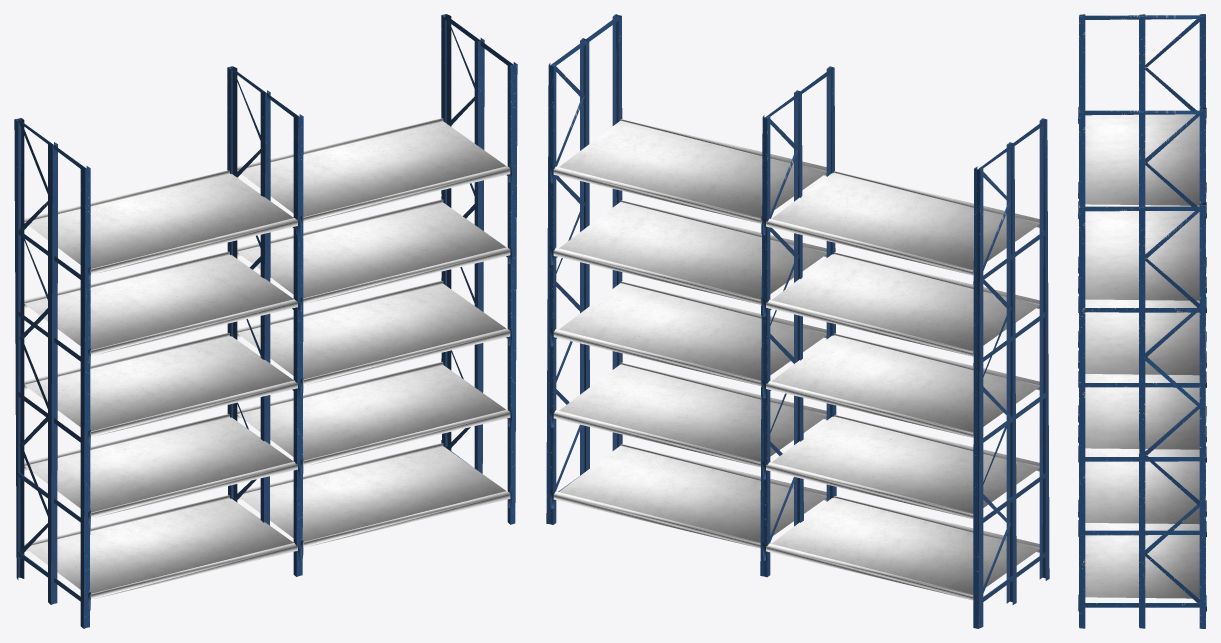
Rendered from stelaj2.glb.
3 renders of one model, left to right at view 1: azimuth 30°, elevation 25°; view 2: azimuth 150°, elevation 25°; view 3: azimuth 270°, elevation 25°, orthographic. The views are drawn at different scales.
Visible parts, largest first — view 1: mezanine racking.003; view 2: mezanine racking.003; view 3: mezanine racking.003.
Part boxes in pixels (x1,y1,x2,y2): mezanine racking.003: (14, 14, 517, 628); mezanine racking.003: (546, 14, 1049, 628); mezanine racking.003: (1078, 14, 1206, 628).
Size of the model in its own units: 501 by 507 by 141.
Materials: 1 (1 with a texture image).
